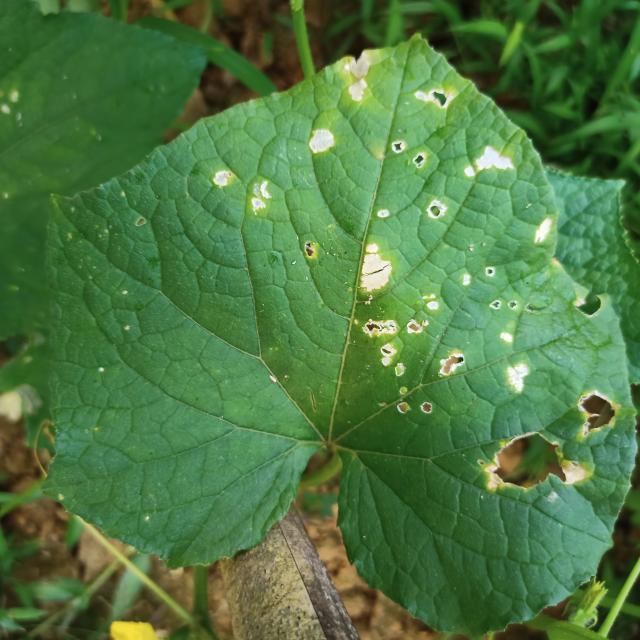disease_cucumber: (358, 293, 468, 421), (475, 424, 590, 505), (211, 167, 279, 220), (356, 240, 394, 304), (576, 391, 619, 437), (463, 146, 517, 182), (301, 118, 343, 163), (343, 55, 377, 108), (500, 358, 531, 406), (389, 140, 433, 170), (413, 84, 457, 111), (530, 216, 556, 253), (424, 195, 447, 228)
